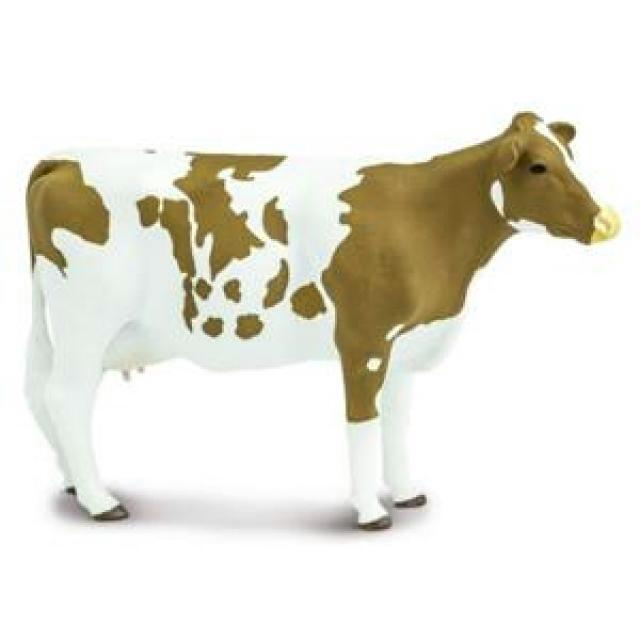cow: (26, 112, 620, 529)
